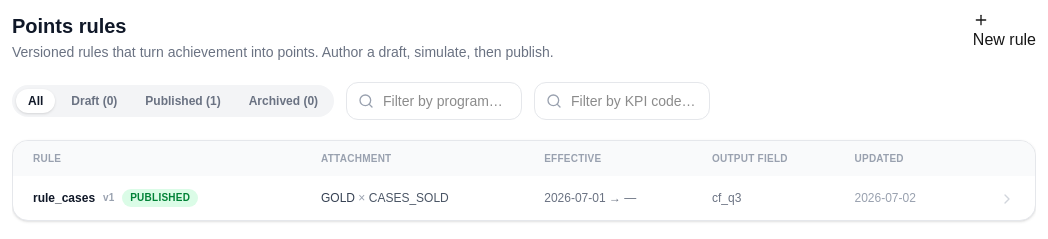
Test case: Rule list tab counts › PR8: a status-filtered view shows no misleading "(0)" on inactive tabs
Expected: the text "rule_cases" is shown, [33,190,95,206]
Click the button "published (1)" at [183, 101], box [133,89,233,113]
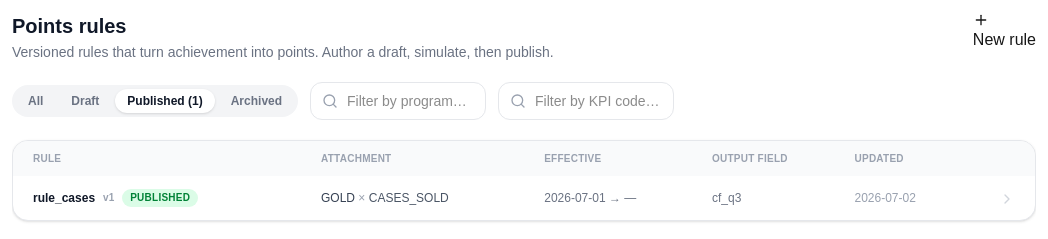
Expected: the button "published (1)" is shown, [115,89,215,113]
Now the button "draft (0)" is gone
Now the button "archived (0)" is gone
